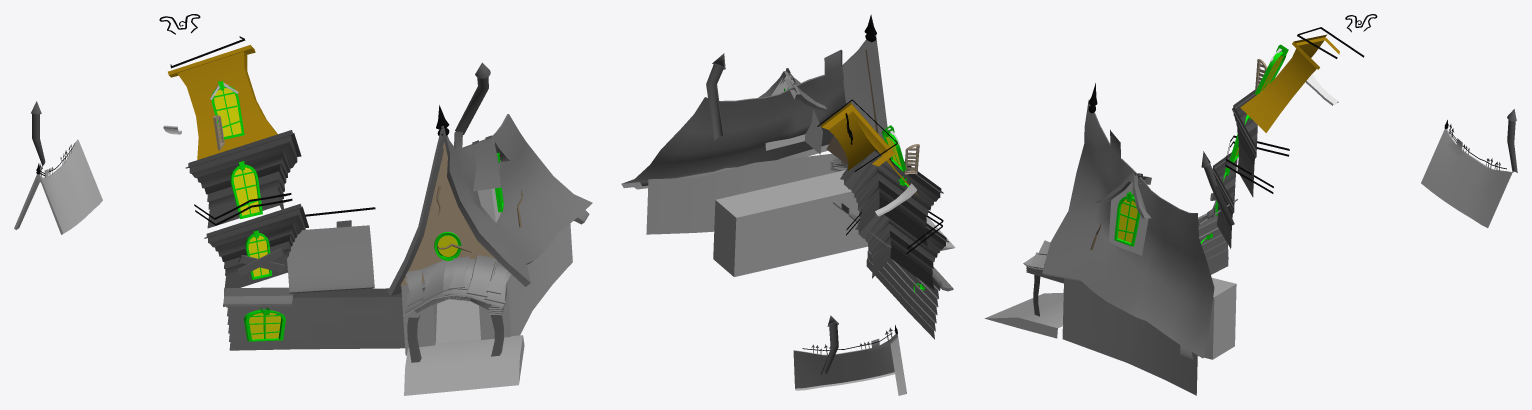
The model's file is tecture house.fbx.
3 renders of one model, left to right at view 1: azimuth 30°, elevation 25°; view 2: azimuth 150°, elevation 25°; view 3: azimuth 270°, elevation 25°, orthographic. The views are drawn at different scales.
Parts seen in each view (by area): view 1: roof3, skin, house_base, ramp1, roof2, tower, top1, tower1, arched_planks, polySurface24, face1, roof1 (+9 smaller); view 2: house_base, roof3, tower, polySurface24, tower1, skin, top1, window_base, chimney, roof1, face1, wind (+3 smaller); view 3: roof3, house_base, polySurface24, top1, ramp1, tower, skin, tower1, wind4, window_base, roof1, chimney (+1 smaller).
Part boxes in pixels (<box>): roof3: <box>387,114,592,295</box>; skin: <box>223,287,404,350</box>; house_base: <box>401,223,572,355</box>; ramp1: <box>404,335,524,395</box>; roof2: <box>287,220,374,293</box>; tower: <box>185,130,301,228</box>; top1: <box>168,45,277,159</box>; tower1: <box>204,203,308,288</box>; arched_planks: <box>405,255,511,309</box>; polySurface24: <box>14,139,102,234</box>; face1: <box>400,142,512,285</box>; roof1: <box>462,135,511,191</box>; house_base: <box>646,153,868,276</box>; roof3: <box>621,35,887,189</box>; tower: <box>840,149,943,246</box>; polySurface24: <box>793,334,906,395</box>; tower1: <box>855,214,948,289</box>; skin: <box>866,246,953,339</box>; top1: <box>820,102,918,195</box>; window_base: <box>765,72,822,154</box>; chimney: <box>706,53,725,140</box>; roof1: <box>758,68,826,110</box>; face1: <box>826,49,878,165</box>; wind: <box>882,125,906,171</box>; roof3: <box>1042,99,1214,359</box>; house_base: <box>1062,278,1236,395</box>; polySurface24: <box>1421,129,1512,227</box>; top1: <box>1240,34,1339,132</box>; ramp1: <box>984,292,1063,338</box>; tower: <box>1232,89,1257,196</box>; skin: <box>1198,213,1228,274</box>; tower1: <box>1212,152,1237,248</box>; wind4: <box>1114,191,1140,246</box>; window_base: <box>1109,174,1148,255</box>; roof1: <box>1095,172,1151,218</box>; chimney: <box>1201,151,1234,225</box>.
Size of the model in its own units: 0.1984 by 0.1207 by 0.2206.
